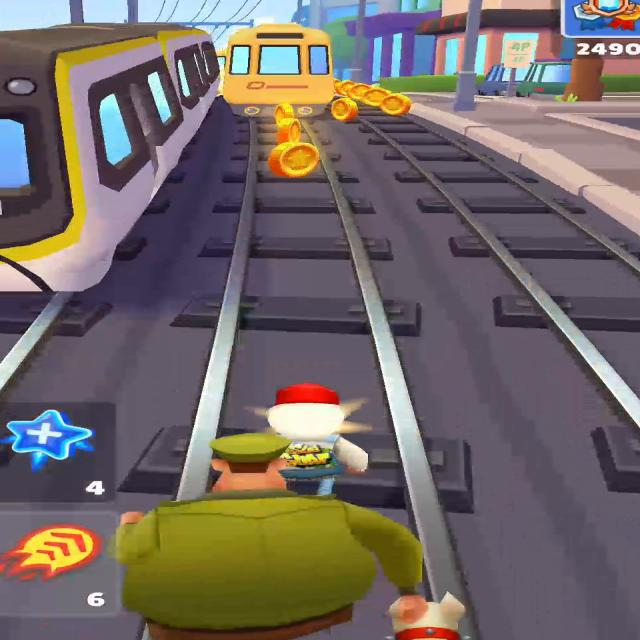police: (112, 433, 428, 640)
train: (0, 23, 220, 293), (219, 23, 333, 119)
